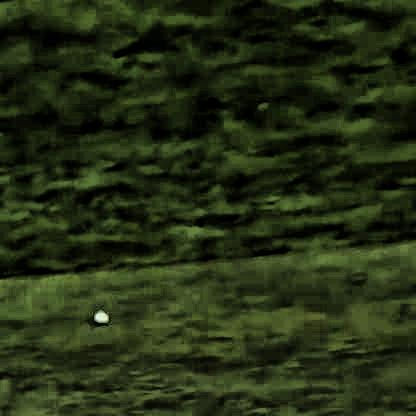golfball: (89, 308, 108, 324)
